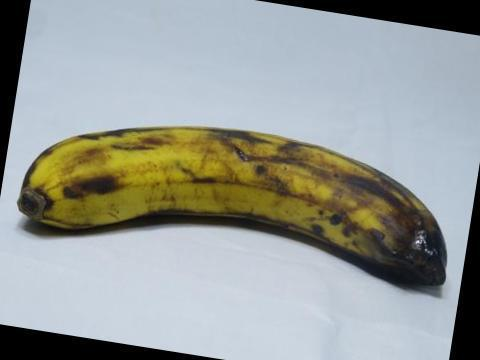overripe: (10, 114, 460, 300)
